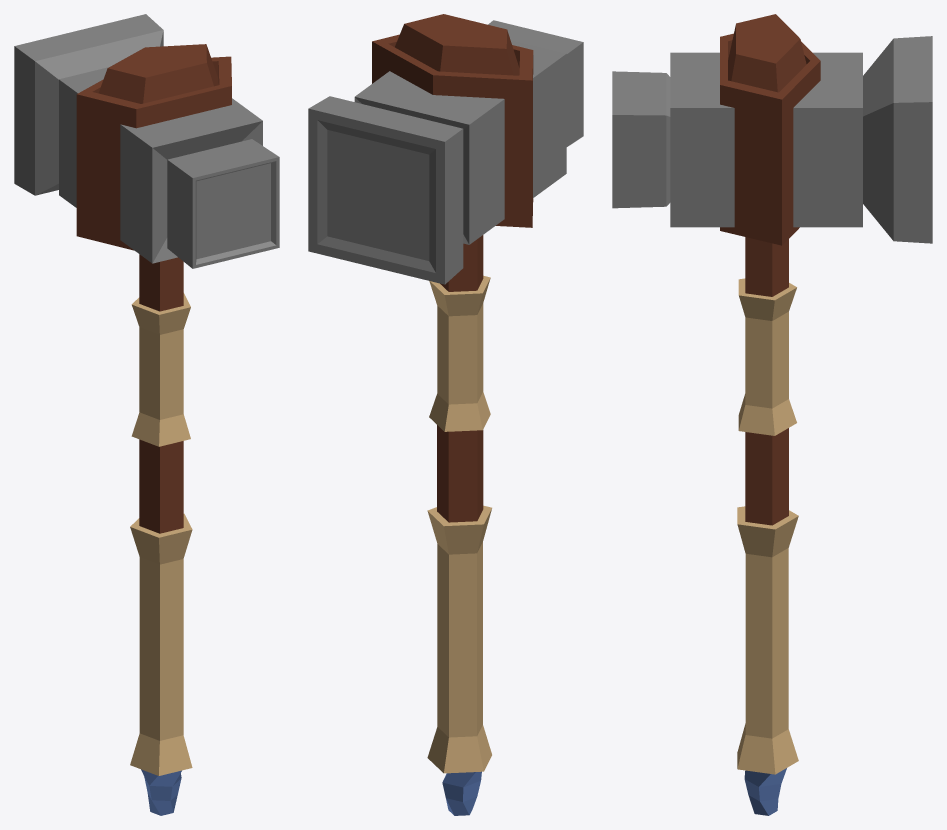
File: Hammer.fbx
The picture shows the model from 3 angles, left to right: view 1: azimuth 30°, elevation 25°; view 2: azimuth 150°, elevation 25°; view 3: azimuth 270°, elevation 25°; orthographic projection. The views are drawn at different scales.
Parts seen in each view (by area): view 1: Hammer; view 2: Hammer; view 3: Hammer.
Part boxes in pixels (left/top/right/bottom): Hammer: left=14, top=14, right=279, bottom=815; Hammer: left=308, top=14, right=583, bottom=815; Hammer: left=612, top=14, right=932, bottom=815.
Bounding box in the file's own units: 47.74 × 221 × 83.34.
